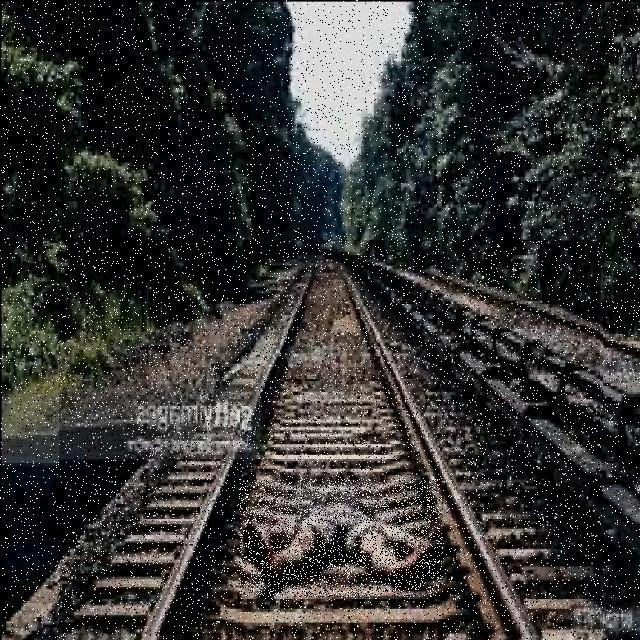rail: (61, 242, 601, 636)
